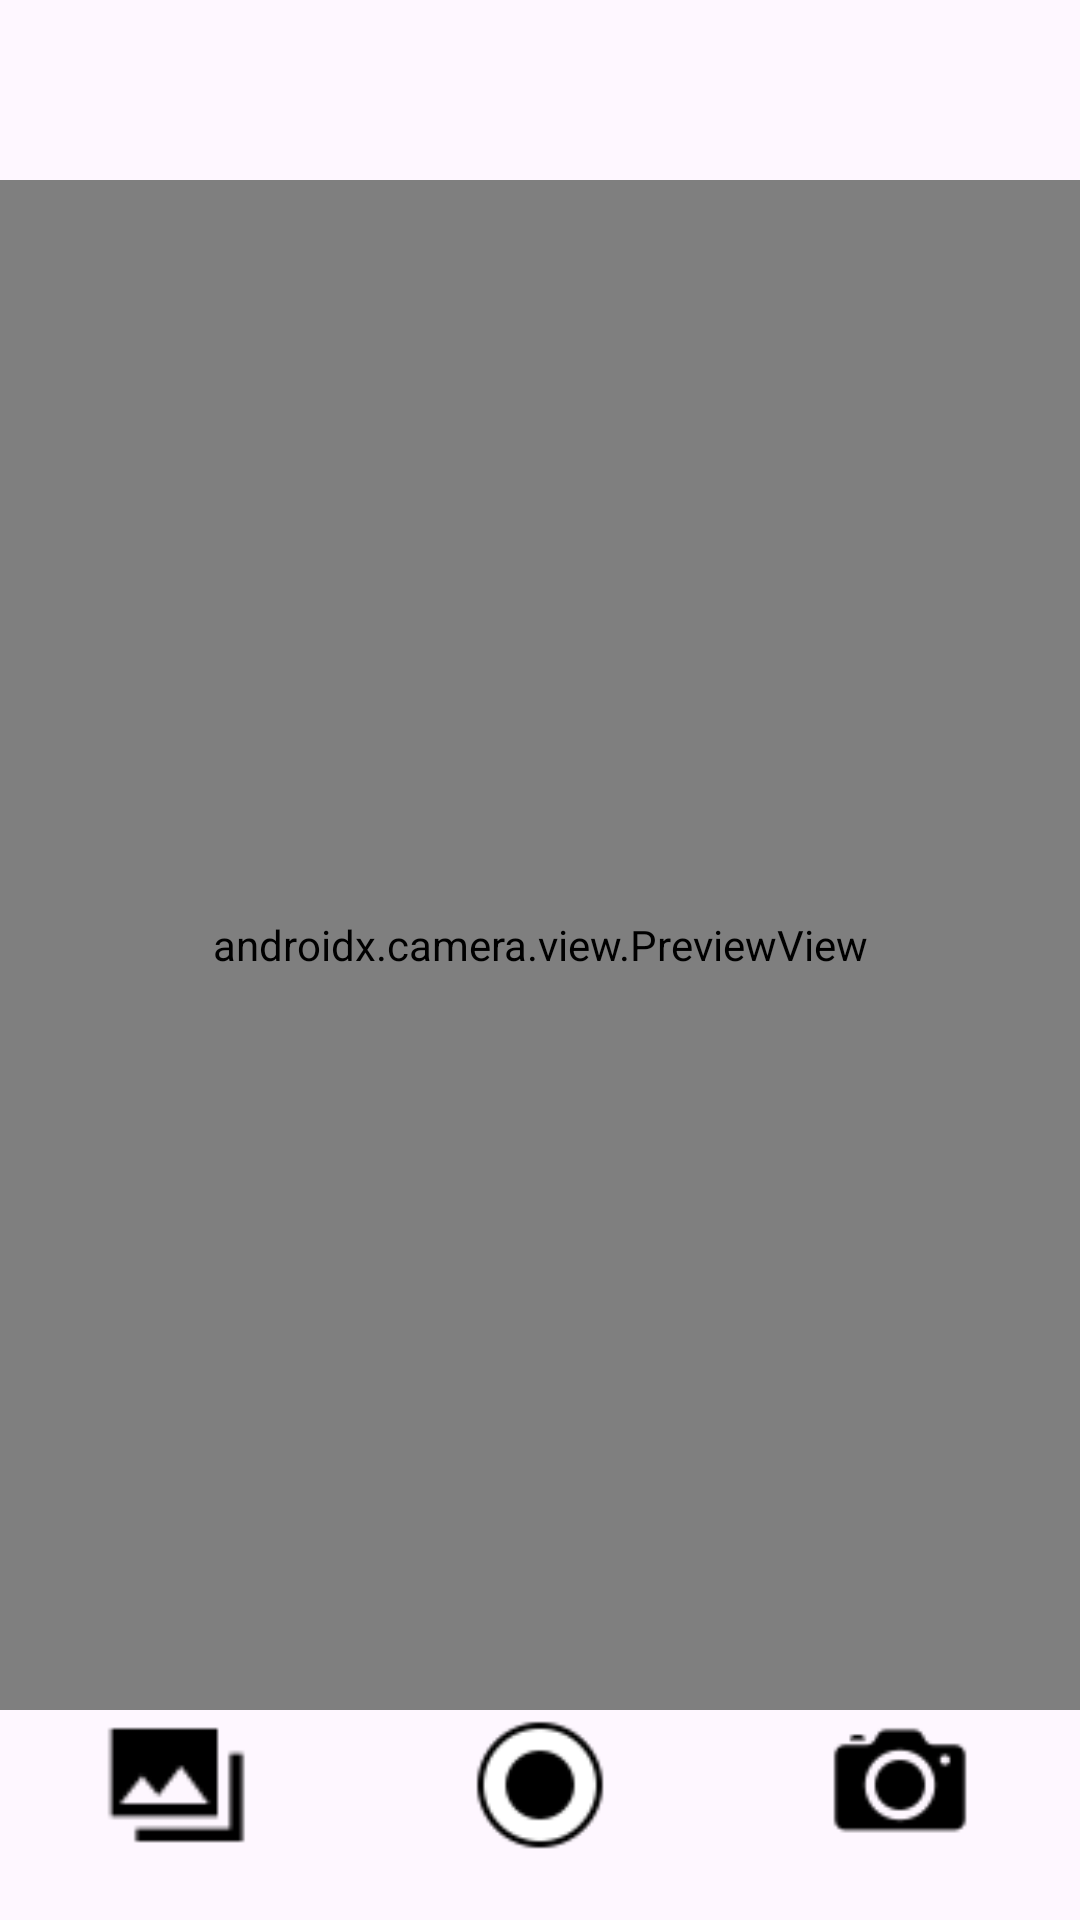

Where to tap for icons on this 1080w x 1920h app screen, as [x,y]:
capture: [540,1785]
photo: [176,1785]
